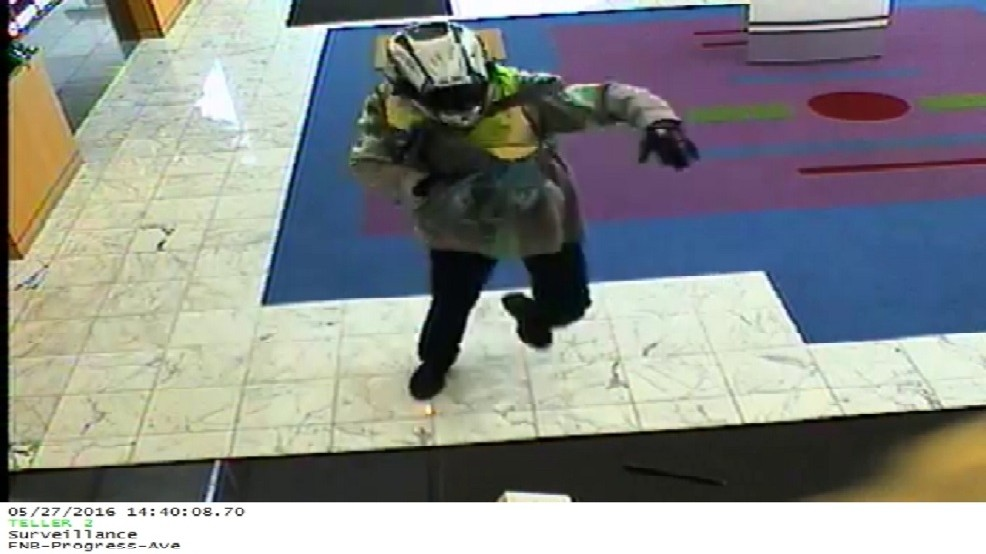helmet: (375, 17, 517, 136)
